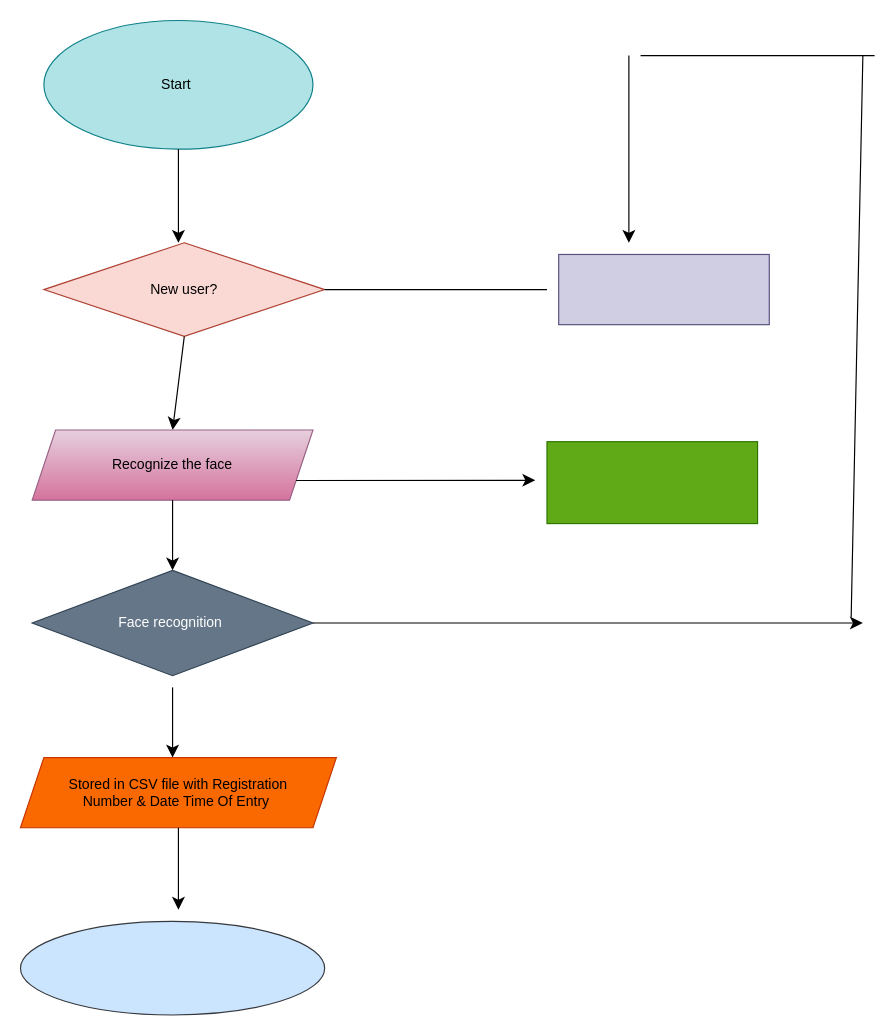
Some shapes in this 896 by 1035 pixel diagram are drawn without their labels. The box of each missing label's shape, as (x1, y1, x2, y2) in pixels:
End: (19, 920, 325, 1015)
Give Your Photograph: (558, 253, 769, 325)
Store the face data In folder on Your name: (546, 441, 758, 524)
